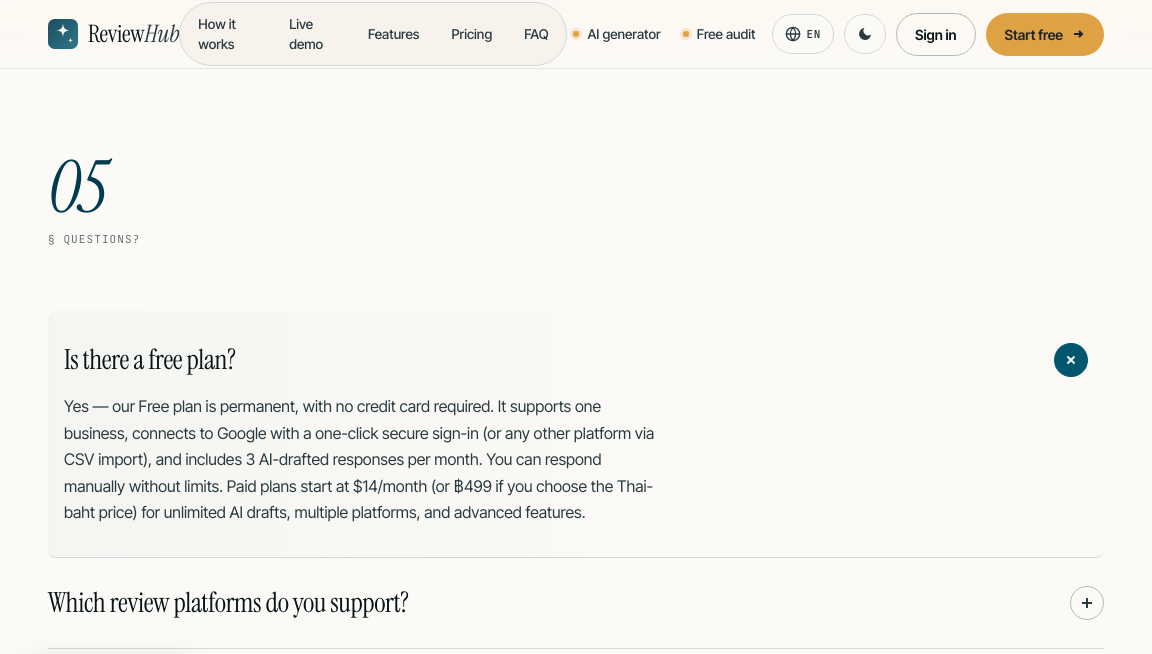
Test: Landing FAQ accordion › clicking an open question closes it (collapsing all)
The image size is (1152, 654).
(page scrolled)
Click the button "Is there a free plan?".
click(150, 360)  # box left=64, top=344, right=1088, bottom=378
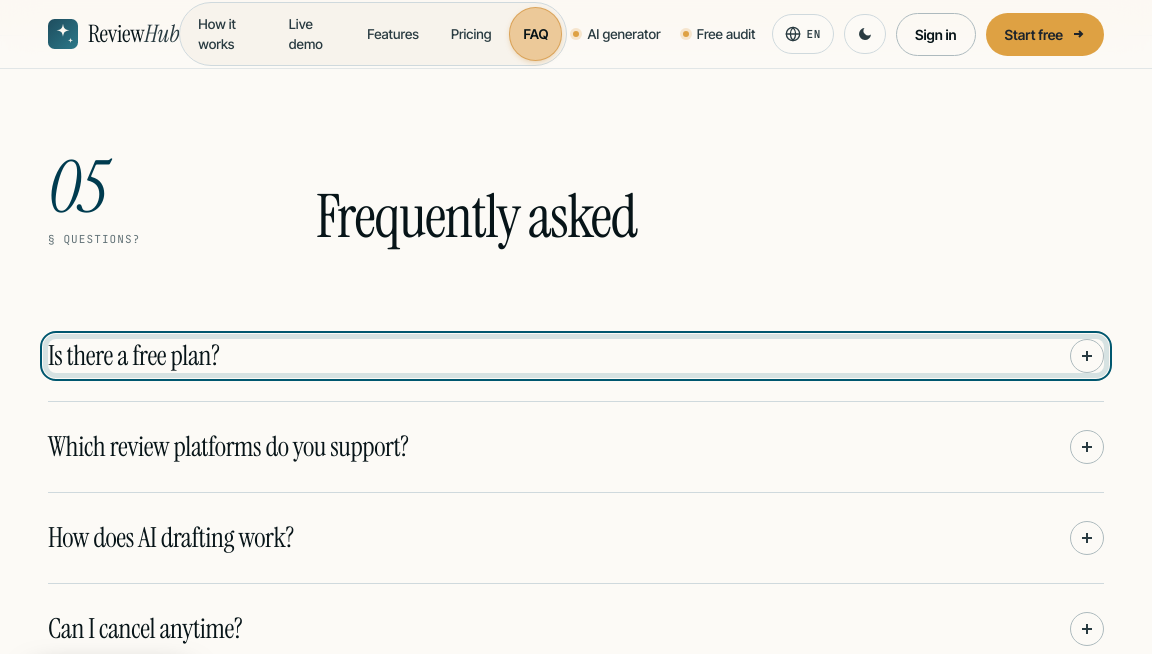
Expected: the button "Is there a free plan?" is collapsed, left=48, top=340, right=1104, bottom=374
